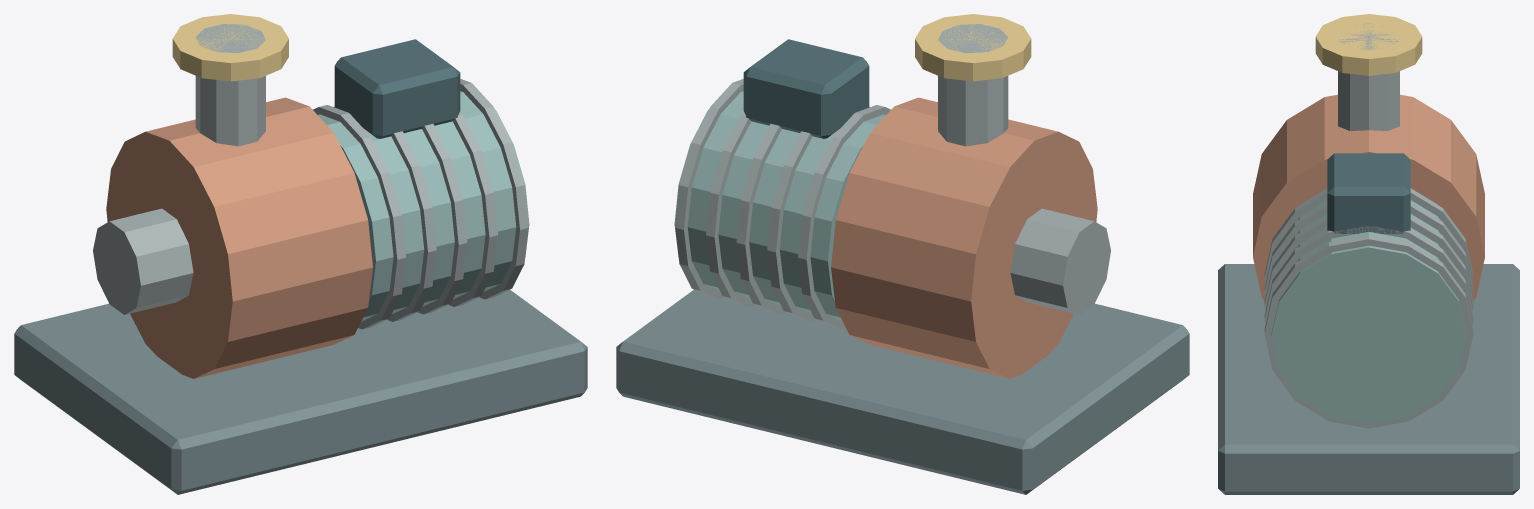
Rendered from water_pump.glb.
3 renders of one model, left to right at view 1: azimuth 30°, elevation 25°; view 2: azimuth 150°, elevation 25°; view 3: azimuth 270°, elevation 25°, orthographic. The views are drawn at different scales.
Parts seen in each view (by area): view 1: water_pump; view 2: water_pump; view 3: water_pump.
Boxes of the visible parts, bbox=[...] form: water_pump: bbox=[14, 14, 587, 494]; water_pump: bbox=[616, 14, 1189, 494]; water_pump: bbox=[1218, 14, 1519, 494].
Size of the model in its own units: 0.95 by 0.8 by 0.65.
